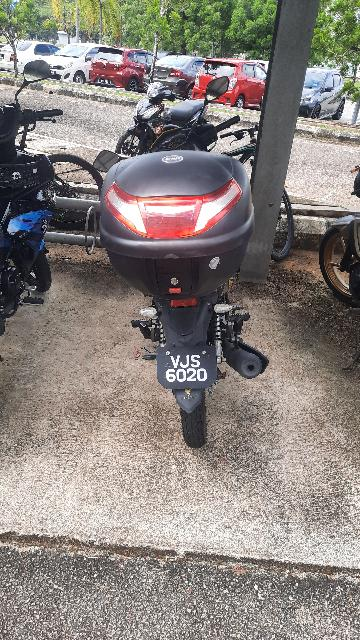License_Plate: (155, 341, 218, 391)
motorcycle: (92, 74, 290, 449)
